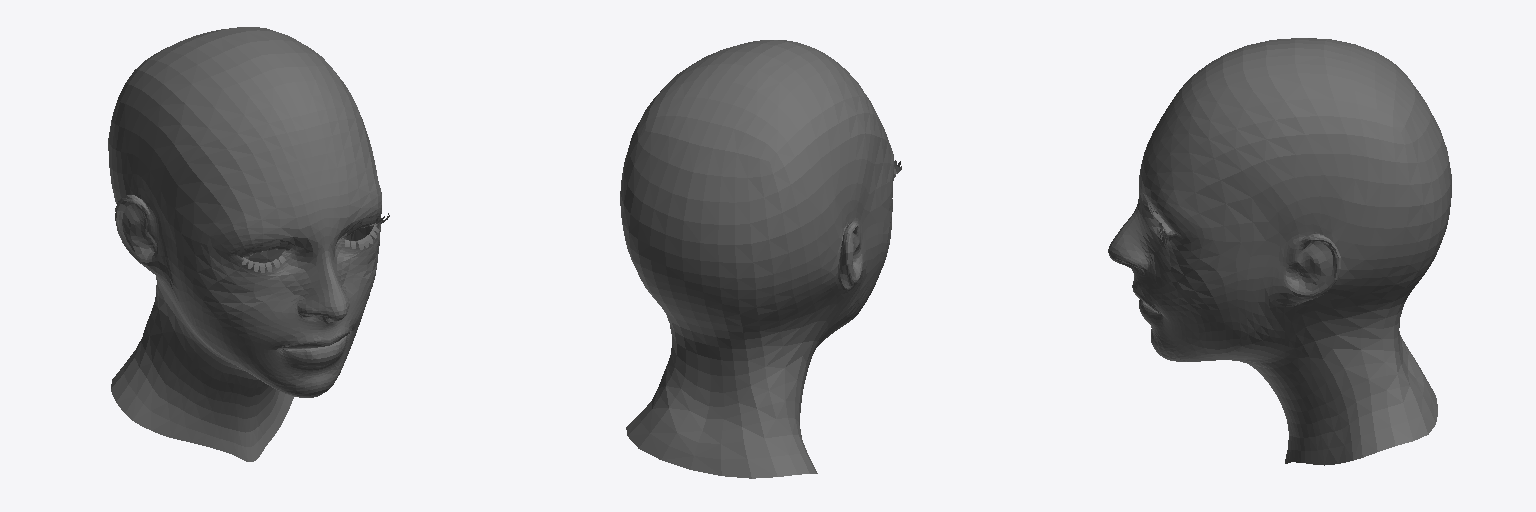
Rendered from Standard.obj.
3 views of the same model, side by side, from view 1: azimuth 30°, elevation 25°; view 2: azimuth 150°, elevation 25°; view 3: azimuth 270°, elevation 25° (orthographic).
Visible parts, largest first — view 1: Plane_012.001; view 2: Plane_012.001; view 3: Plane_012.001.
Boxes of the visible parts, box(x1,y1,x2,y2) form: Plane_012.001: box(108, 27, 389, 461); Plane_012.001: box(620, 40, 901, 478); Plane_012.001: box(1108, 38, 1451, 465).
Bounding box in the file's own units: 7.03 × 12.58 × 9.43.